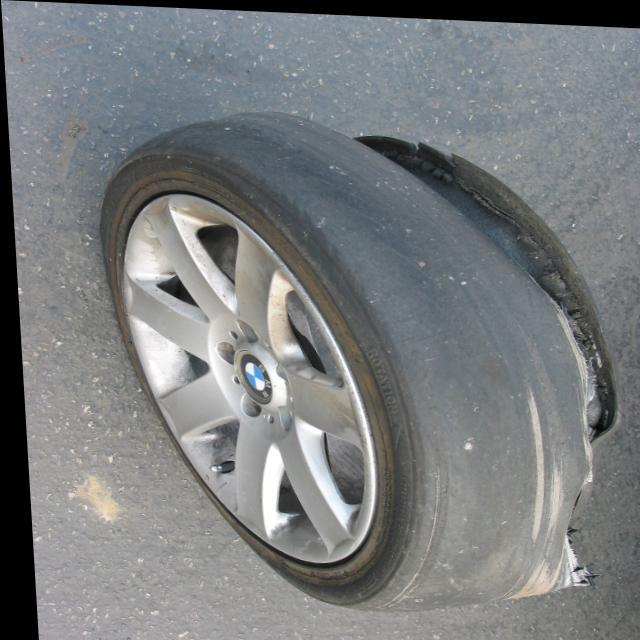Flat spots: (424, 302, 559, 606), (350, 210, 460, 295)
